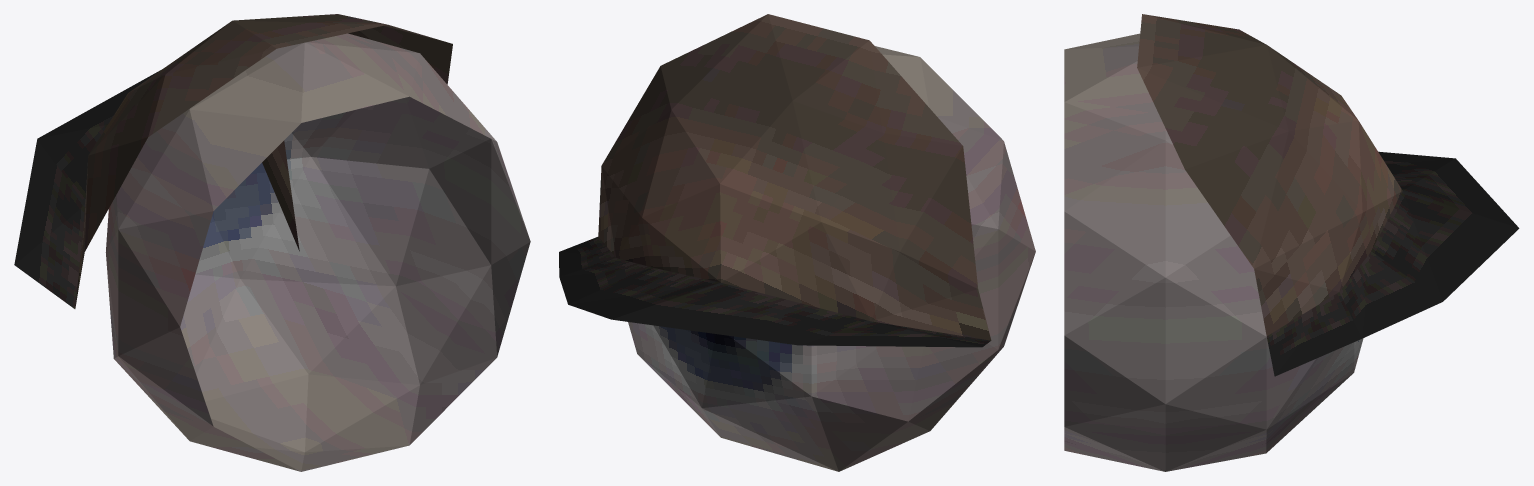
Rendered from recovered_gear_left_eye_blue_958e453286f6.glb.
3 views of the same model, side by side, from view 1: azimuth 30°, elevation 25°; view 2: azimuth 150°, elevation 25°; view 3: azimuth 270°, elevation 25° (orthographic). The views are drawn at different scales.
Parts seen in each view (by area): view 1: left_eye_blue; view 2: left_eye_blue; view 3: left_eye_blue.
Boxes of the visible parts, <box> form: left_eye_blue: <box>14,14,530,471</box>; left_eye_blue: <box>559,14,1035,471</box>; left_eye_blue: <box>1064,14,1519,471</box>.
Size of the model in its own units: 0.0399 by 0.0358 by 0.035.
Materials: 2 (2 with a texture image).
